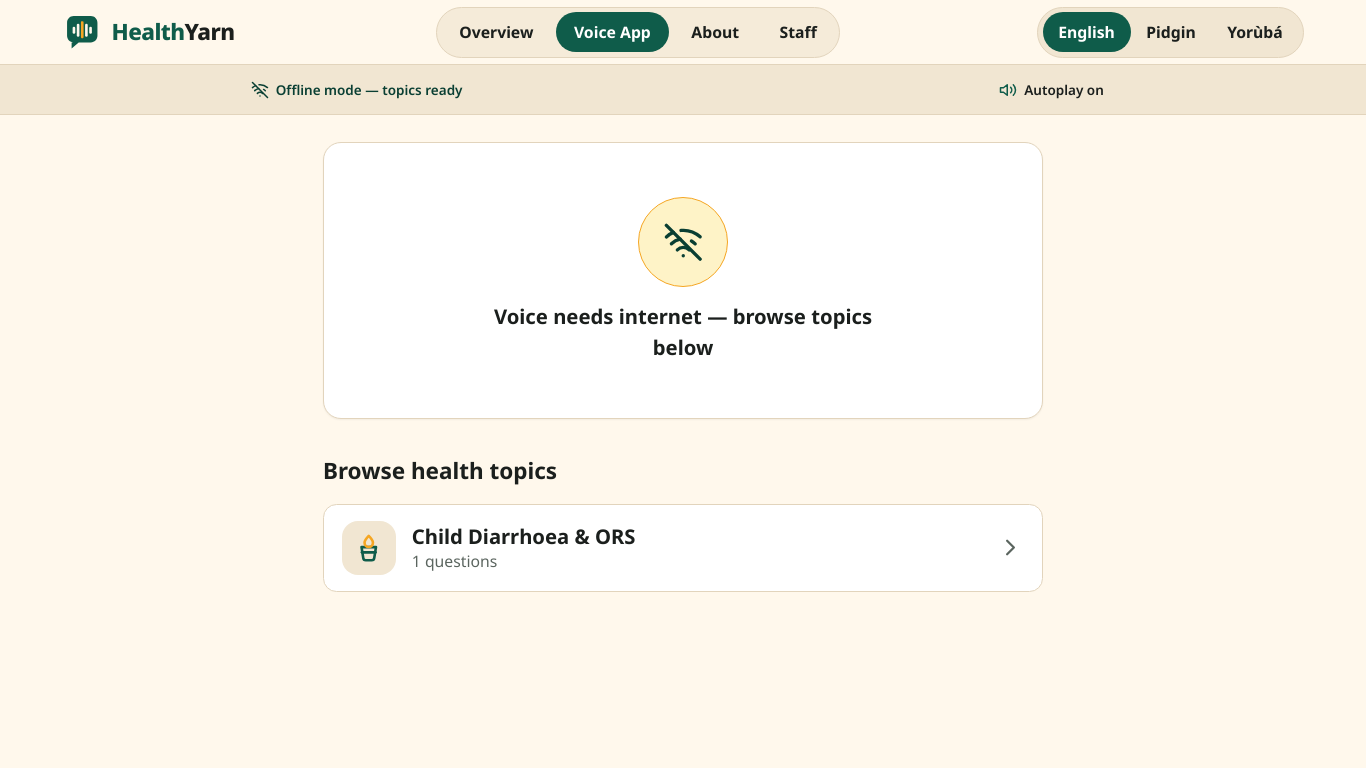
HealthYarn Landing & App Core Flows › shows cached topics and opens answers when offline
The image size is (1366, 768).
Check: the text "Voice needs internet — browse topics below" is shown, box [467,300,899,364]
What coordinates should you click on to do the following:
click the button "Child Diarrhoea & ORS 1 questions"
I would click on:
 (369, 548)
Its box is [323,504,1043,592].
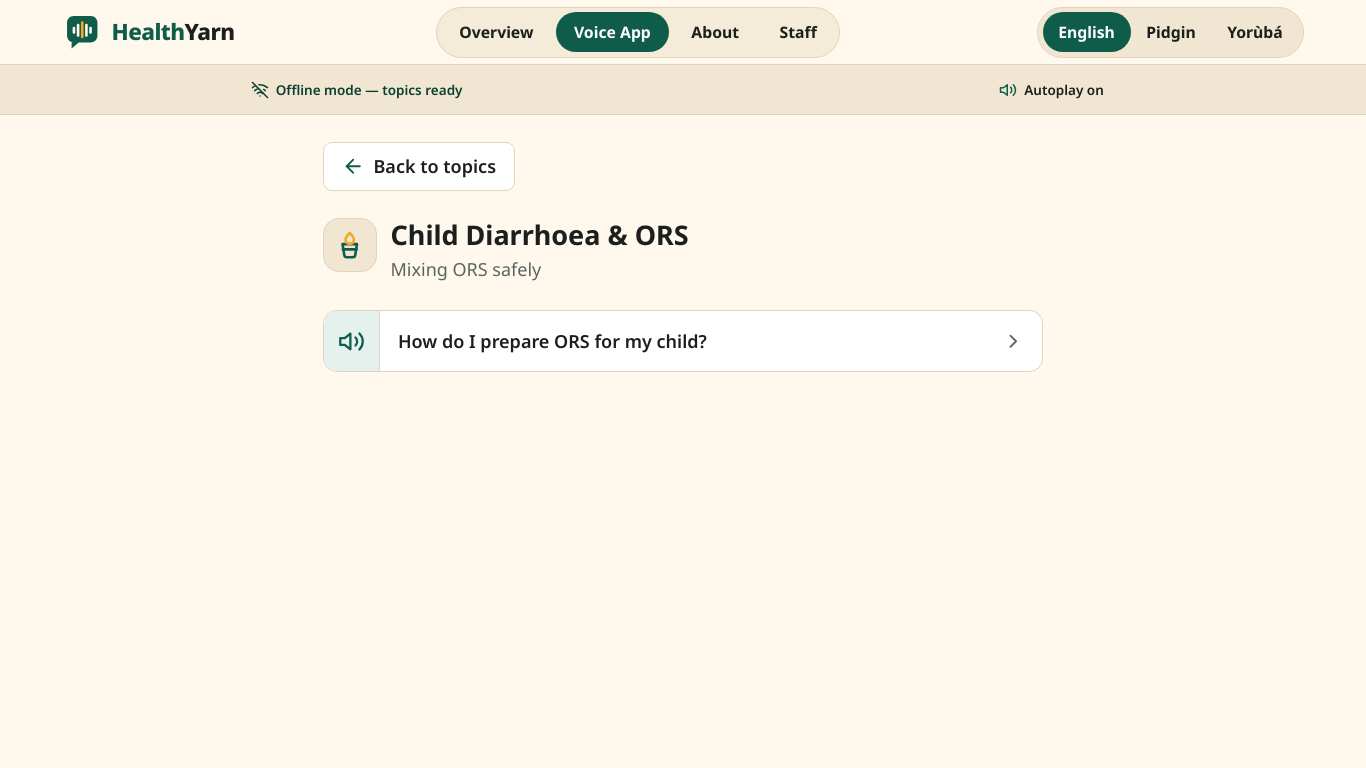
What coordinates should you click on to do the following:
click the button with aria-label "Open answer: How do I prepare ORS"
I would click on:
 (552, 341)
Its box is [380,311,1042,371].
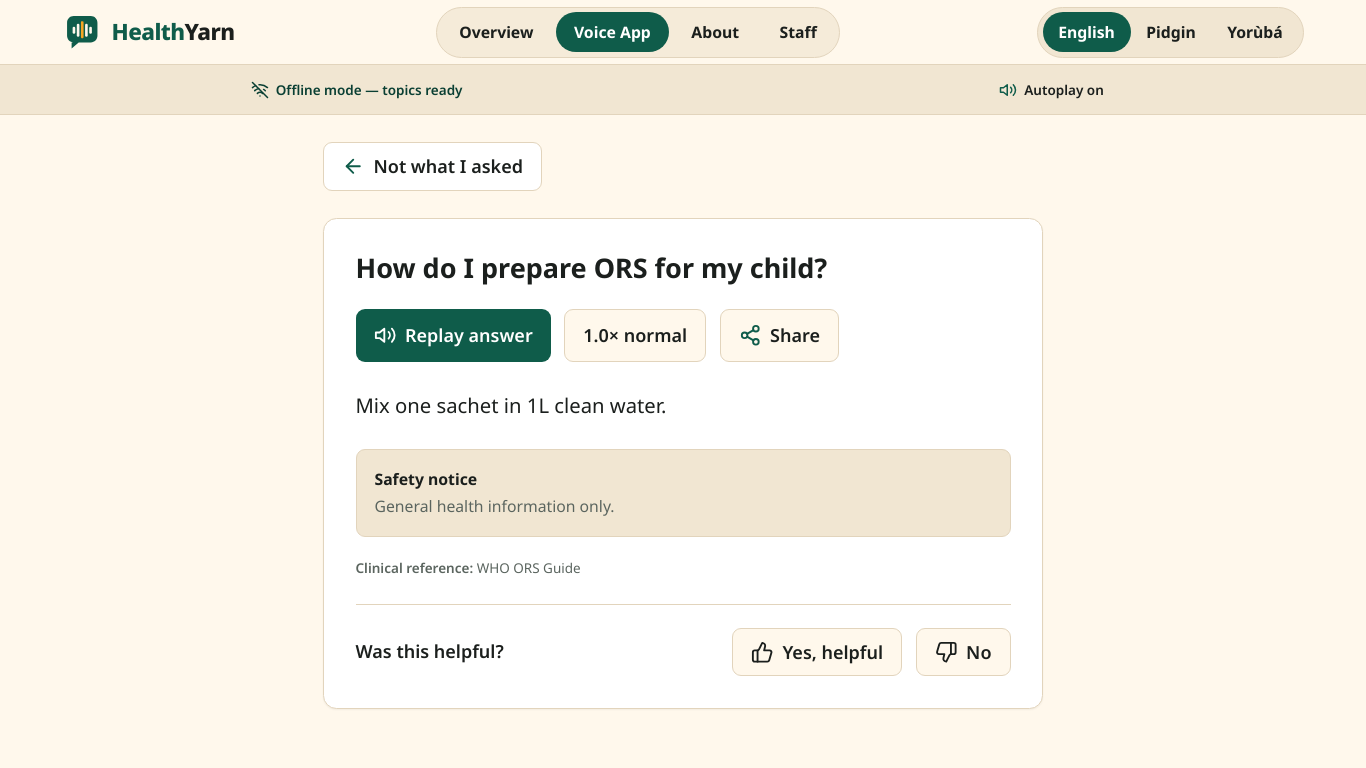
Check: the text "Mix one sachet in 1L clean water." is shown, box [356,391,666,419]
